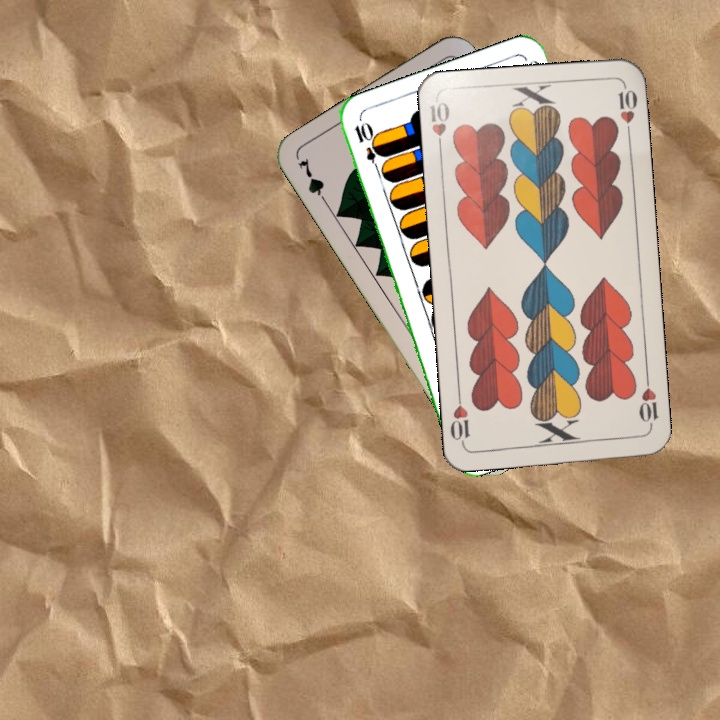E10: (350, 119, 385, 176)
G7: (293, 154, 332, 209)
H10: (425, 96, 452, 156), (635, 372, 661, 431)
